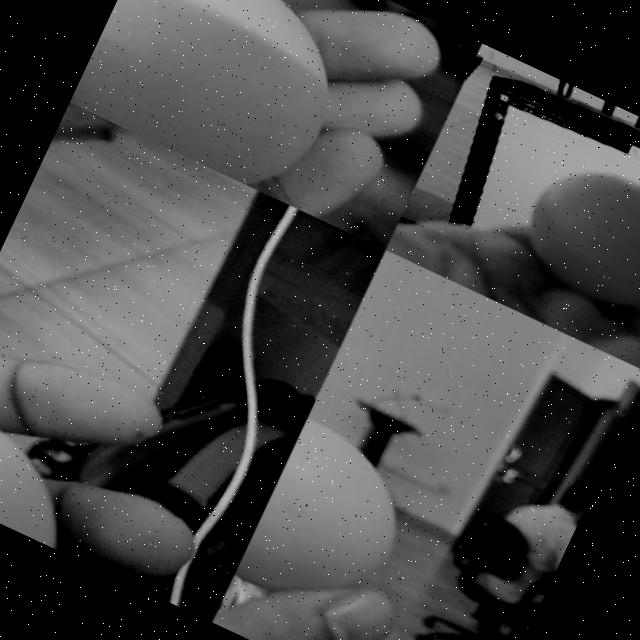ping-pong-ball: (69, 0, 368, 202), (233, 416, 427, 631), (507, 147, 640, 327), (0, 391, 97, 550)
